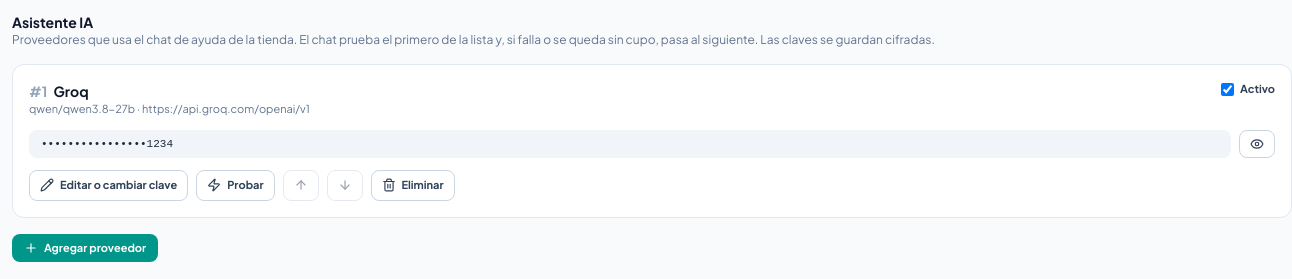
Scenario: AiProvidersPanel › el ojito muestra la clave completa y al tocarlo de nuevo la tapa
Check: the text named "API key actual" is shown, box [29, 130, 1231, 158]
What coordinates should you click on to do the following:
click the button named "Mostrar la clave"
I would click on:
 (1257, 144)
Its box is [1239, 130, 1275, 158].
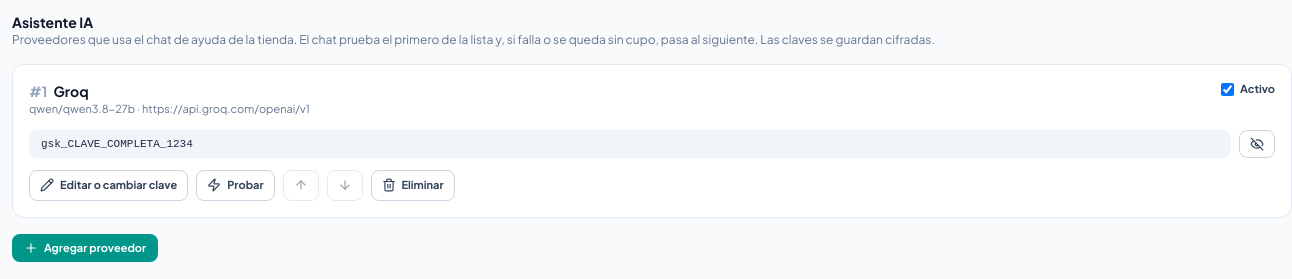
Check: the text named "API key actual" reads "gsk_CLAVE_COMPLETA_1234", box [41, 138, 193, 150]
What coordinates should you click on to do the following:
click the button named "Ocultar la clave"
I would click on:
 (1257, 144)
Its box is [1239, 130, 1275, 158].
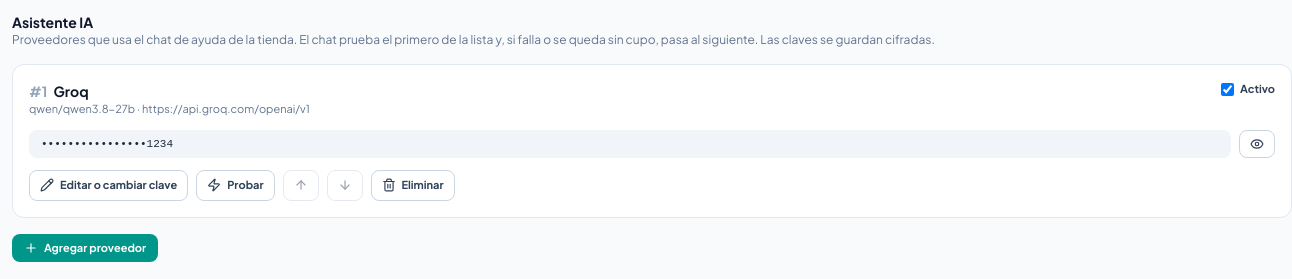
Check: the text named "API key actual" reads "••••••••••••••••1234", box [41, 138, 173, 150]
